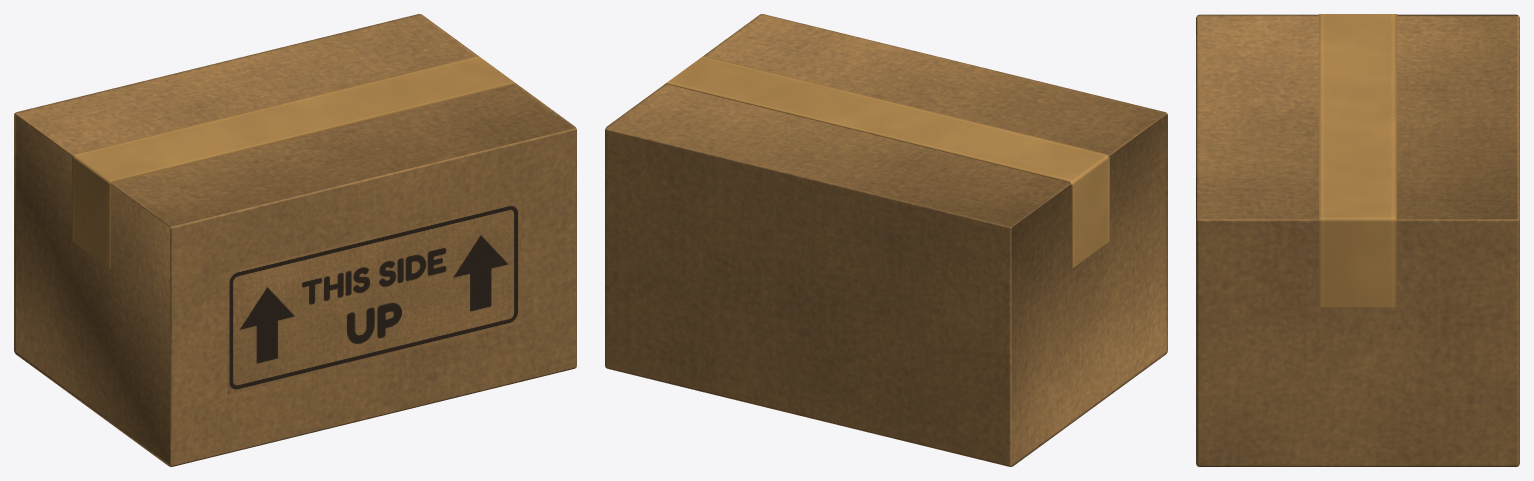
3 views of the same model, side by side, from view 1: azimuth 30°, elevation 25°; view 2: azimuth 150°, elevation 25°; view 3: azimuth 270°, elevation 25° (orthographic). The views are drawn at different scales.
Visible parts, largest first — view 1: sk_carton_s; view 2: sk_carton_s; view 3: sk_carton_s.
Boxes of the visible parts, bbox=[...] form: sk_carton_s: bbox=[14, 14, 576, 466]; sk_carton_s: bbox=[605, 14, 1167, 466]; sk_carton_s: bbox=[1196, 14, 1519, 466].
Bounding box in the file's own units: 0.301 × 0.1705 × 0.2.
Materials: 1 (1 with a texture image).
